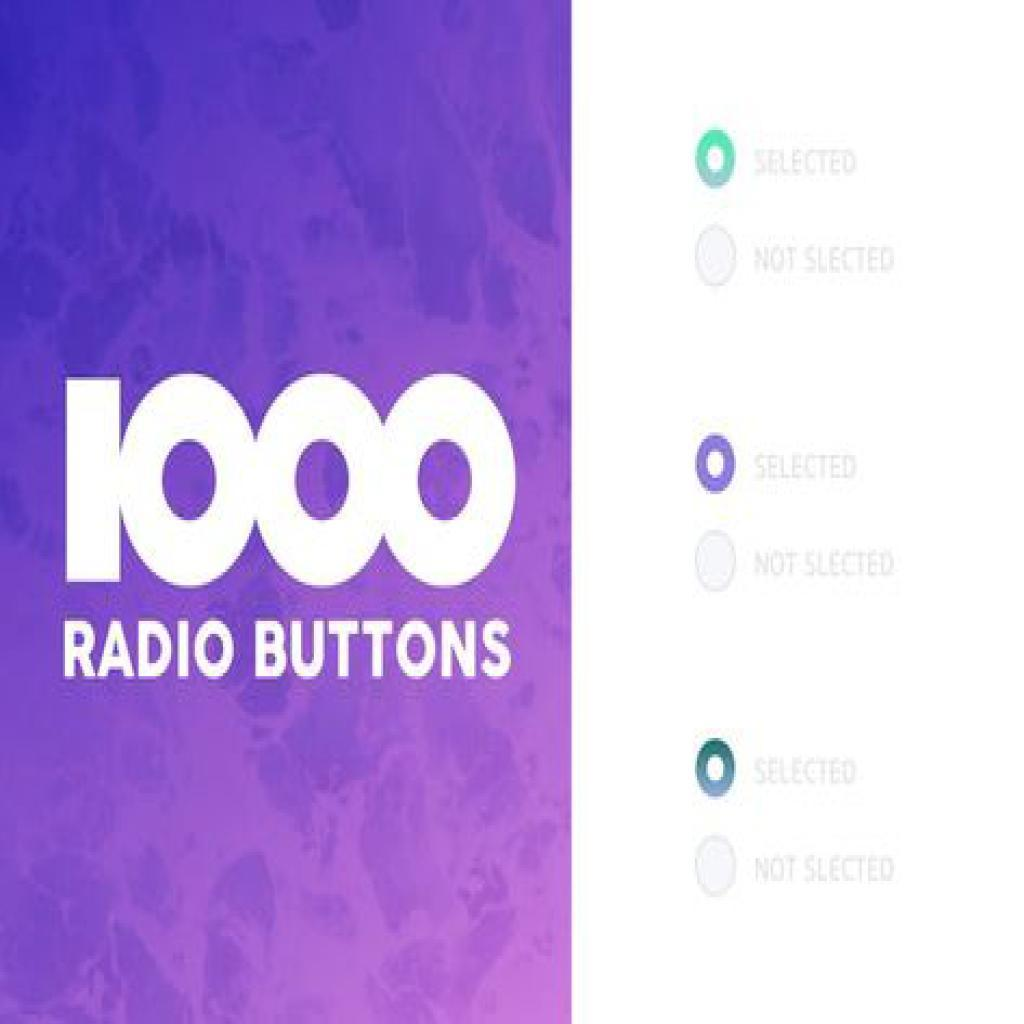label: (753, 850, 896, 892), (752, 238, 897, 278), (751, 547, 898, 584), (749, 754, 864, 797), (751, 452, 859, 491), (750, 143, 860, 181)
radio: (689, 835, 746, 901), (693, 220, 743, 294), (692, 431, 740, 501), (692, 127, 741, 193), (693, 529, 741, 596), (695, 738, 739, 802)
